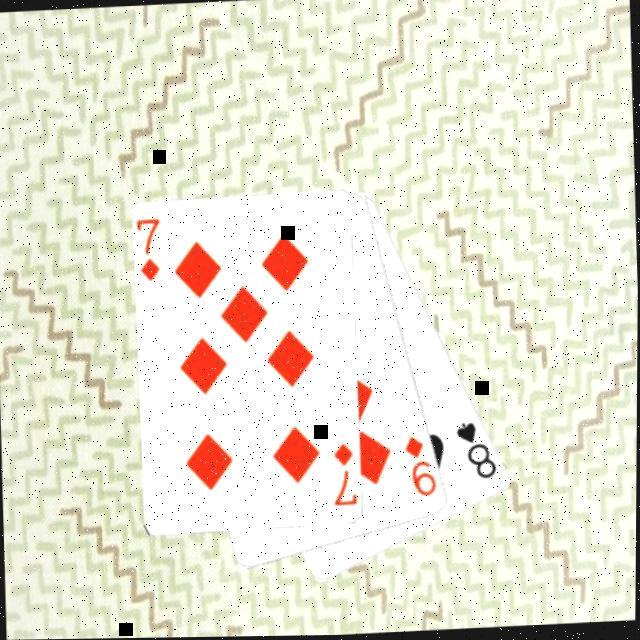7D: (331, 438, 359, 508), (139, 214, 167, 283)
8S: (455, 417, 503, 484)
9D: (404, 431, 442, 500)
